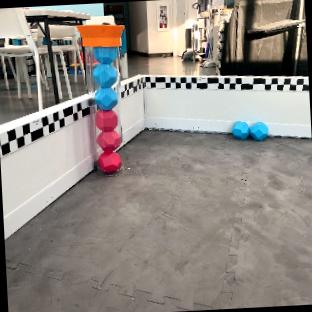Loader: (77, 20, 123, 173)
V5_BLUE: (92, 46, 118, 108), (231, 121, 268, 140)
V5_RED: (96, 129, 120, 150), (99, 150, 121, 172), (96, 110, 117, 129)
